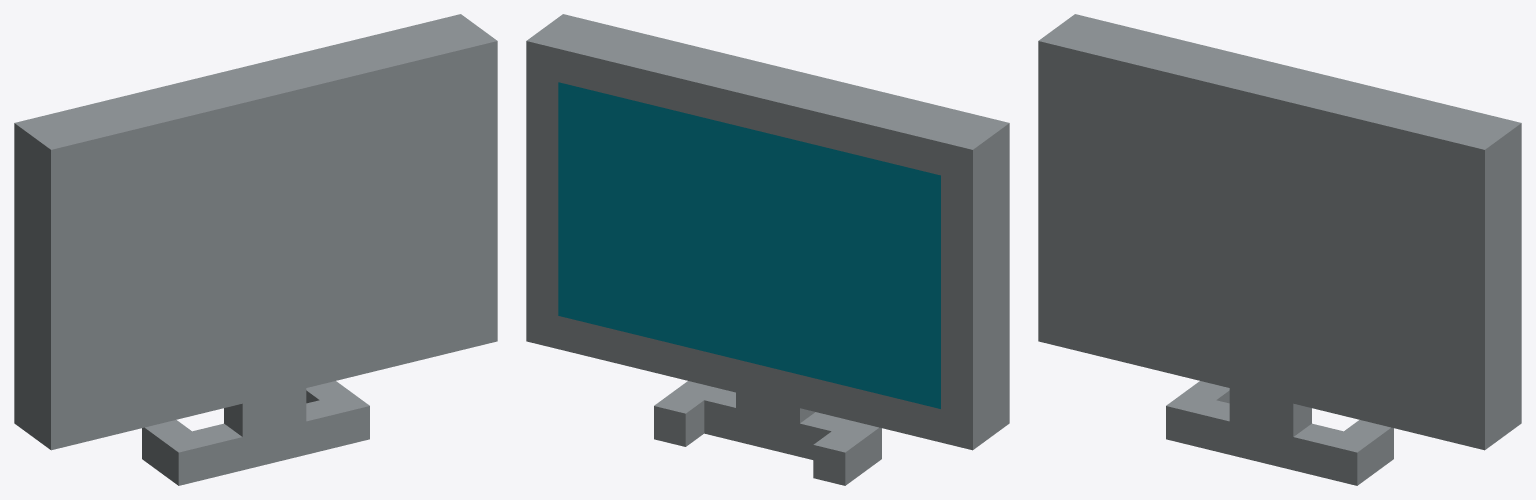
File: Monitor.obj
The picture shows the model from 3 angles, left to right: view 1: azimuth 30°, elevation 25°; view 2: azimuth 150°, elevation 25°; view 3: azimuth 330°, elevation 25°; orthographic projection.
Size of the model in its own units: 1.4 by 1.1 by 0.2.
Materials: 1 (1 with a texture image).
